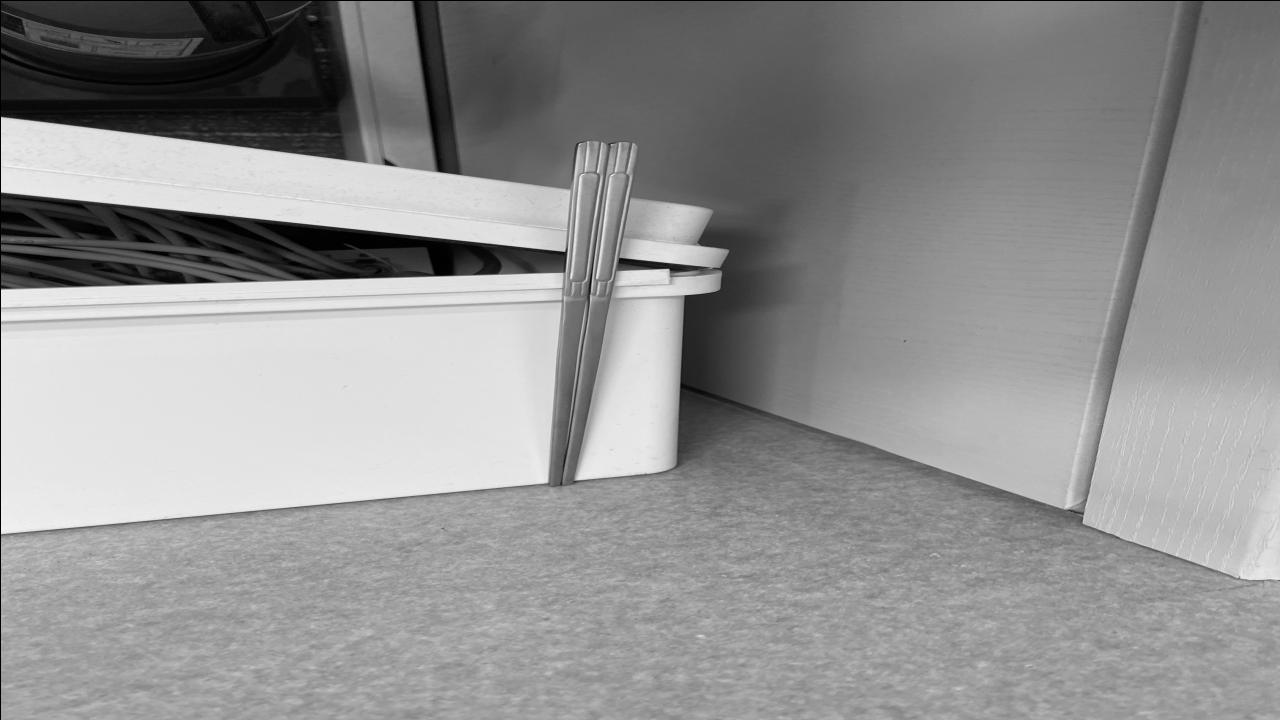chopstick: (539, 140, 641, 485)
